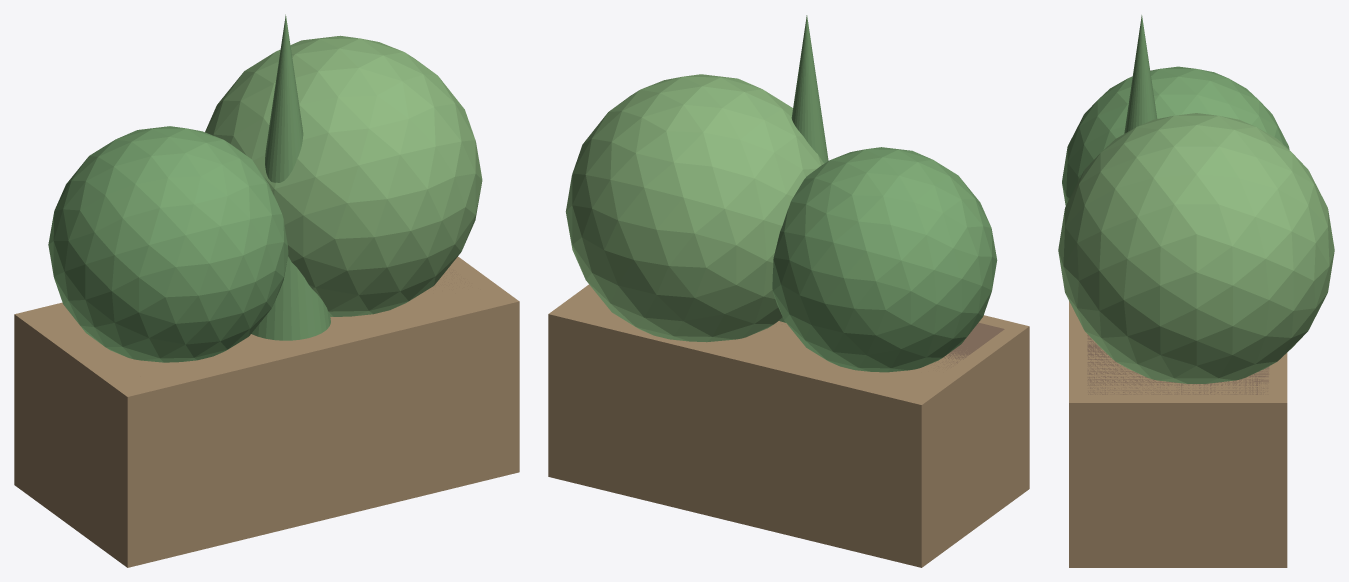
The model's file is planter-box.glb.
3 views of the same model, side by side, from view 1: azimuth 30°, elevation 25°; view 2: azimuth 150°, elevation 25°; view 3: azimuth 270°, elevation 25° (orthographic). The views are drawn at different scales.
Visible parts, largest first — view 1: geometry_0; view 2: geometry_0; view 3: geometry_0.
Part boxes in pixels (<box>): geometry_0: <box>14,14,519,567</box>; geometry_0: <box>548,15,1029,567</box>; geometry_0: <box>1058,15,1334,567</box>.
Bounding box in the file's own units: 1.25 × 1.4 × 0.76.
